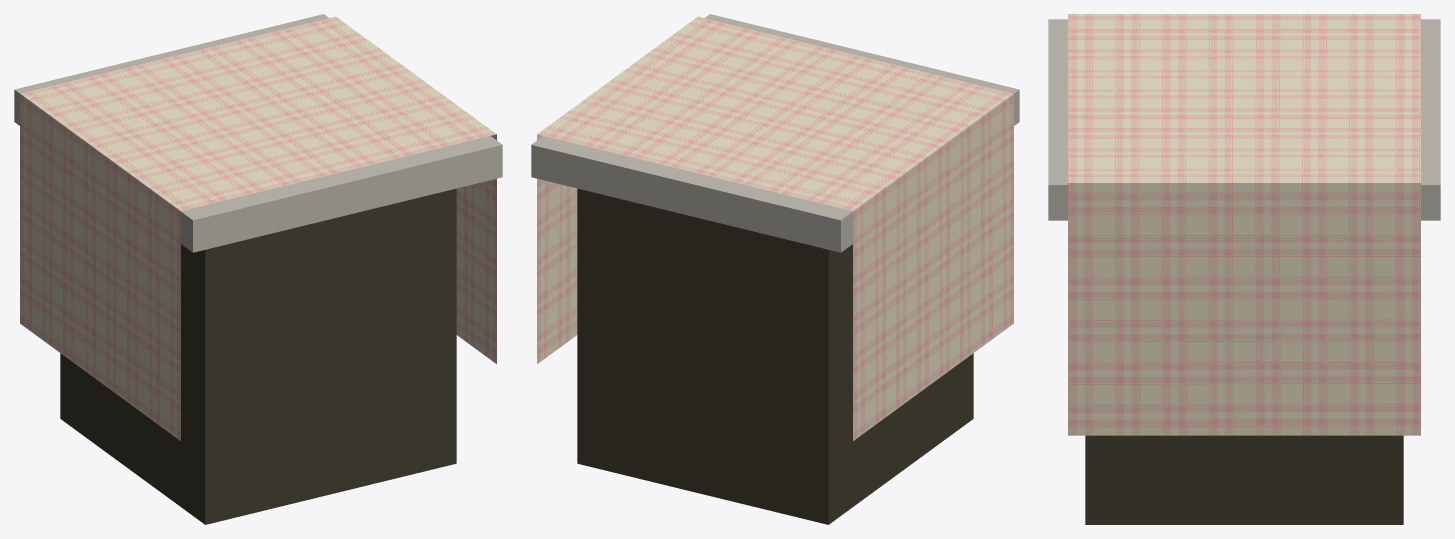
The model's file is table.glb.
3 views of the same model, side by side, from view 1: azimuth 30°, elevation 25°; view 2: azimuth 150°, elevation 25°; view 3: azimuth 270°, elevation 25° (orthographic). The views are drawn at different scales.
Visible parts, largest first — view 1: Cube, Plane; view 2: Cube, Plane; view 3: Plane, Cube.
Boxes of the visible parts, bbox=[...] form: Cube: bbox=[14, 14, 502, 524]; Plane: bbox=[20, 16, 496, 440]; Cube: bbox=[531, 14, 1019, 524]; Plane: bbox=[537, 16, 1013, 440]; Plane: bbox=[1068, 14, 1420, 435]; Cube: bbox=[1048, 19, 1440, 524].
Size of the model in its own units: 1.02 by 1.01 by 1.
2 materials, 2 textured.
